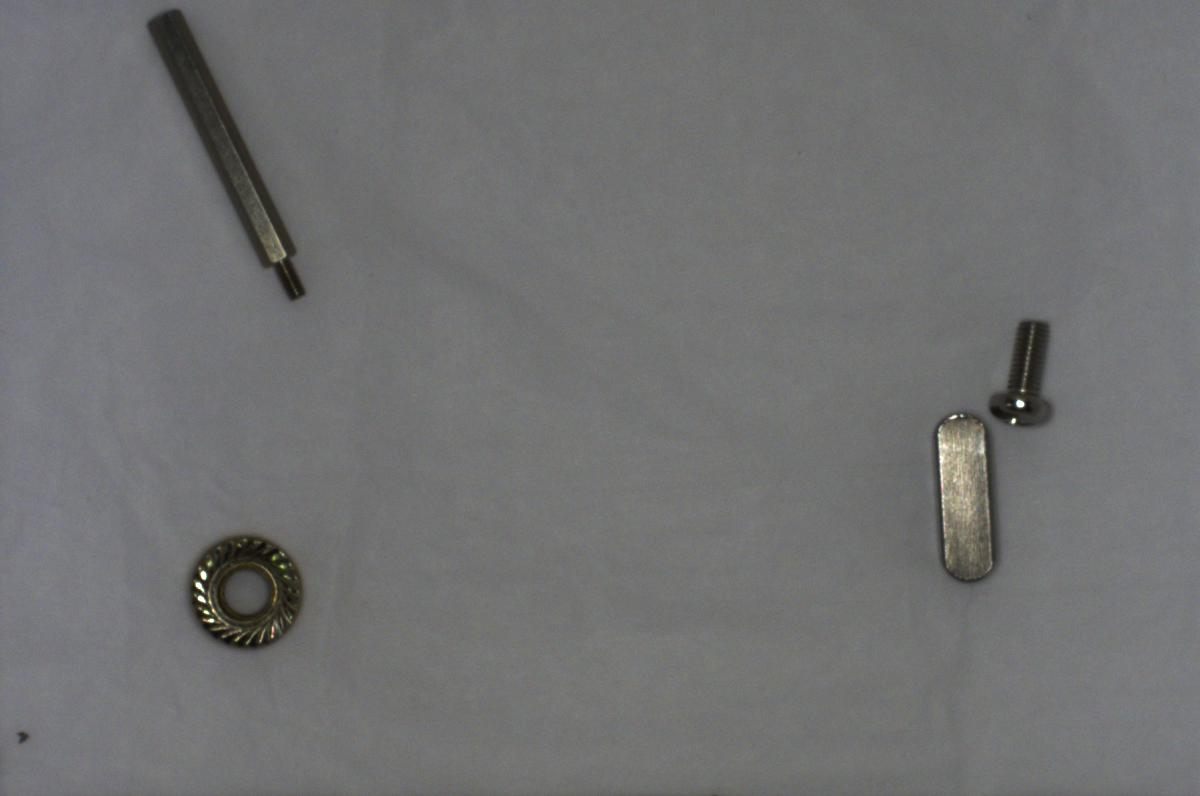Flange nut: (184, 526, 311, 654)
Hexagonal steel column: (135, 3, 321, 309)
Keybar: (921, 407, 1012, 594)
Round head screw: (981, 308, 1062, 432)
